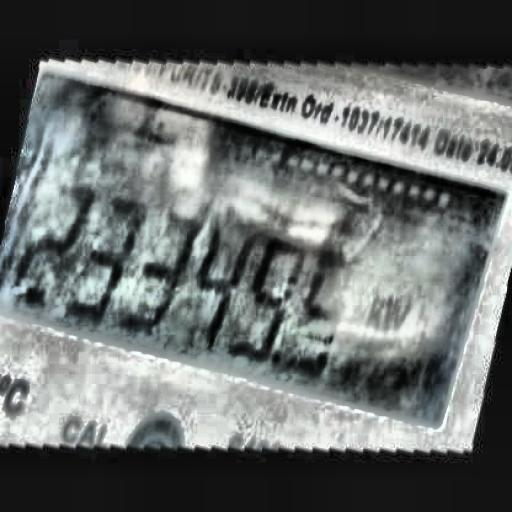SERIAL_REGION: (1, 159, 432, 410)
